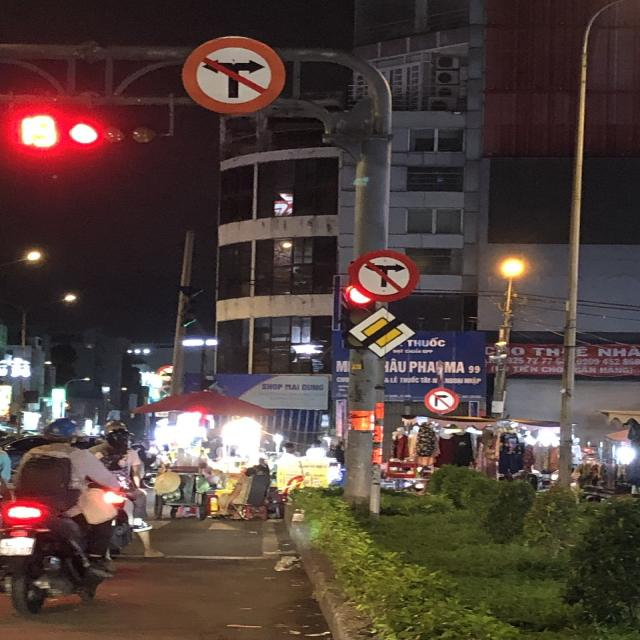Bien bao cam re phai: (421, 386, 461, 416)
